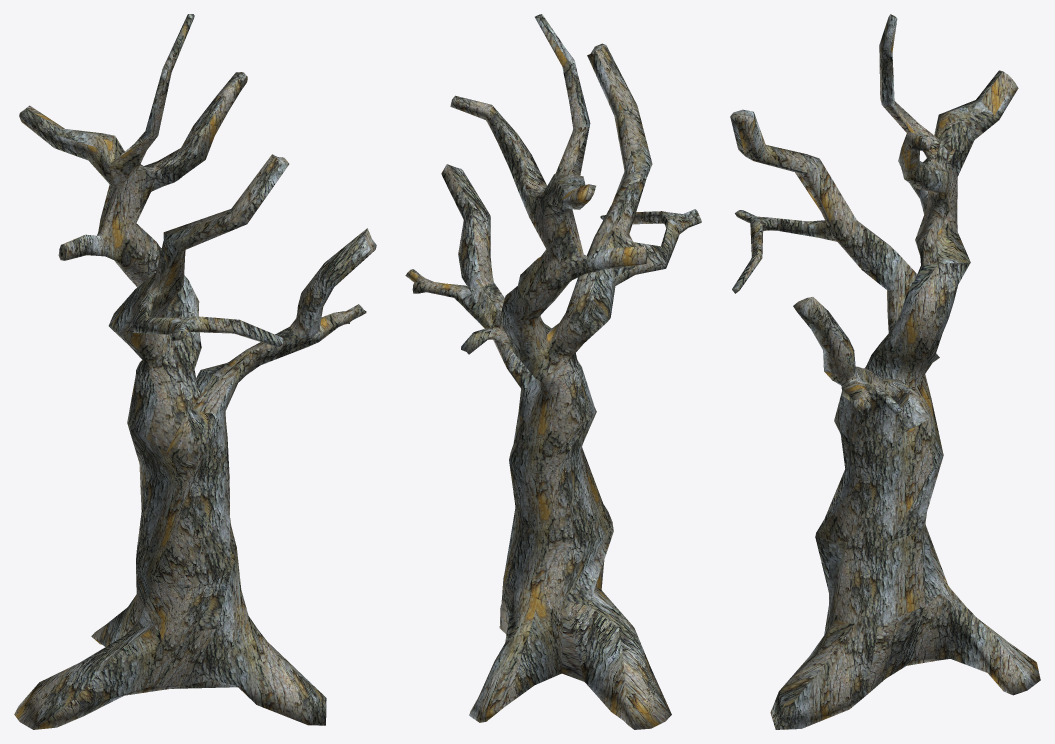
File: tree001.obj
The picture shows the model from 3 angles, left to right: view 1: azimuth 30°, elevation 25°; view 2: azimuth 150°, elevation 25°; view 3: azimuth 270°, elevation 25°; orthographic projection. The views are drawn at different scales.
Parts seen in each view (by area): view 1: tree001; view 2: tree001; view 3: tree001.
Boxes of the visible parts, left/top/right/bottom form: tree001: left=14, top=14, right=376, bottom=729; tree001: left=405, top=14, right=701, bottom=729; tree001: left=730, top=14, right=1040, bottom=729.
Size of the model in its own units: 192 by 408 by 169.
Materials: 1 (1 with a texture image).
